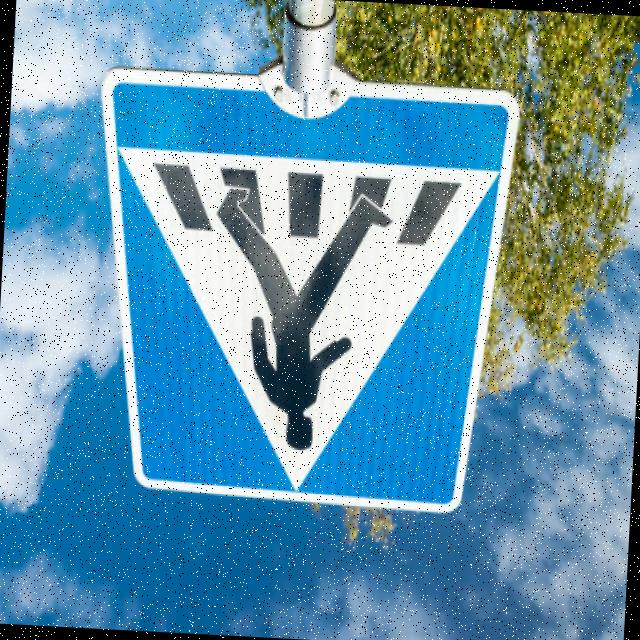crosswalk: (78, 46, 522, 546)
